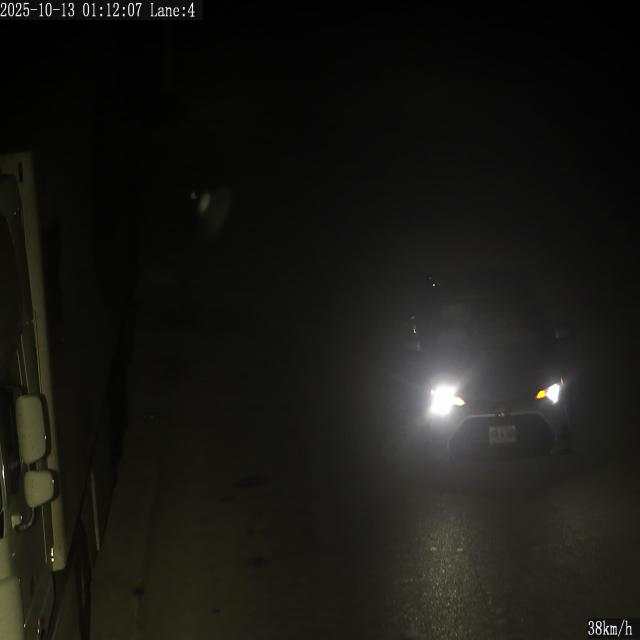BUS: (489, 425, 515, 445)
